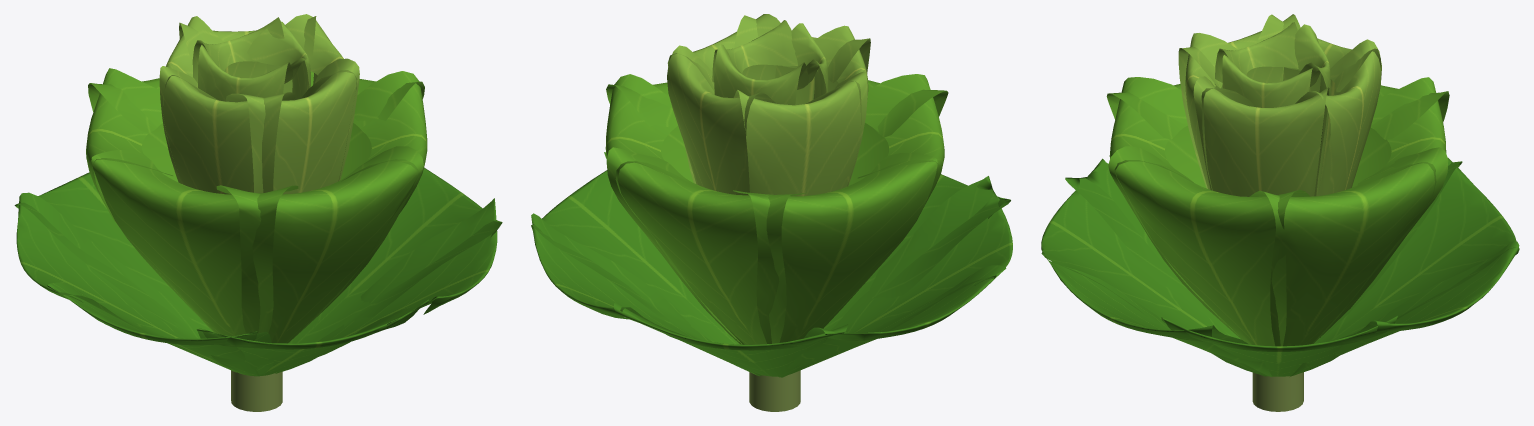
Rendered from horta_alface_realista.glb.
The picture shows the model from 3 angles, left to right: view 1: azimuth 30°, elevation 25°; view 2: azimuth 150°, elevation 25°; view 3: azimuth 270°, elevation 25°; orthographic projection.
Visible parts, largest first — view 1: Horta_Alface_Folhas_PBR; view 2: Horta_Alface_Folhas_PBR; view 3: Horta_Alface_Folhas_PBR.
Boxes of the visible parts, x1,y1,x2,y2 form: Horta_Alface_Folhas_PBR: (14,14,502,411); Horta_Alface_Folhas_PBR: (531,14,1012,411); Horta_Alface_Folhas_PBR: (1041,14,1519,411).
Size of the model in its own units: 0.2253 by 0.1846 by 0.224.
1 material, 1 textured.
